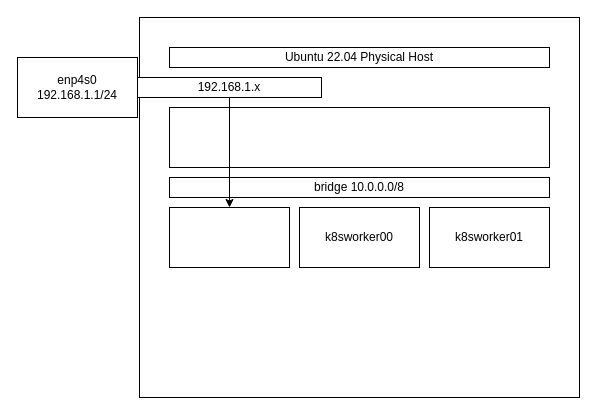
Image size: 597x415. Some labels were removed from this diagram. The centre of each missing label's shape, as x and y in pixels:
"k8smaster" goes at pixel 229 237.
"Vagrant" goes at pixel 359 137.
